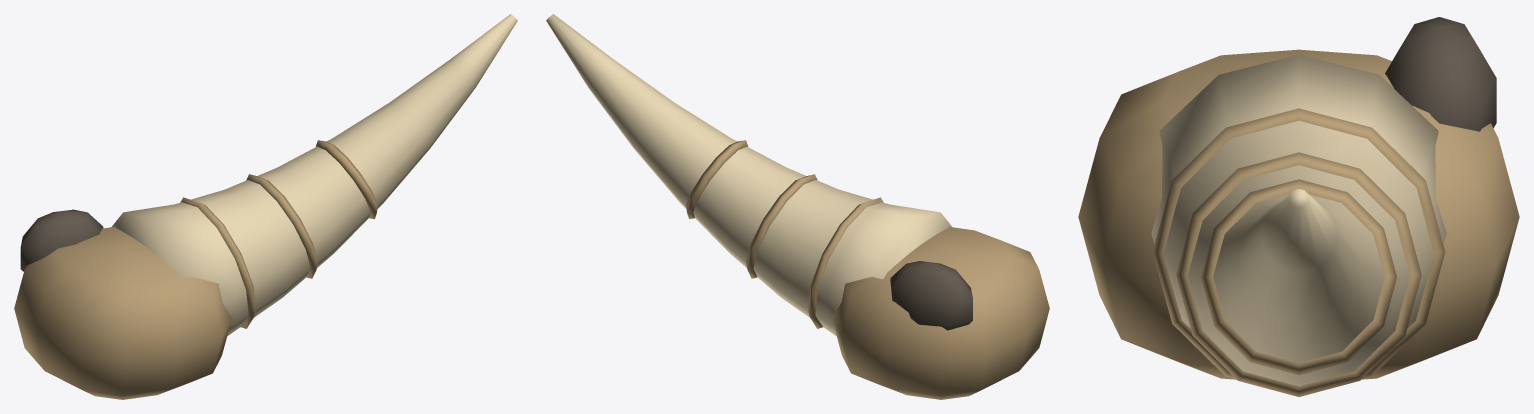
Rendered from fossil-chifre-triceratopo.glb.
3 renders of one model, left to right at view 1: azimuth 30°, elevation 25°; view 2: azimuth 150°, elevation 25°; view 3: azimuth 270°, elevation 25°, orthographic. The views are drawn at different scales.
Parts seen in each view (by area): view 1: fossil-chifre-triceratopo; view 2: fossil-chifre-triceratopo; view 3: fossil-chifre-triceratopo.
Boxes of the visible parts, <box> form: fossil-chifre-triceratopo: <box>14,14,517,399</box>; fossil-chifre-triceratopo: <box>546,14,1049,399</box>; fossil-chifre-triceratopo: <box>1078,17,1519,396</box>.
Bounding box in the file's own units: 0.5531 × 0.2939 × 0.22.
